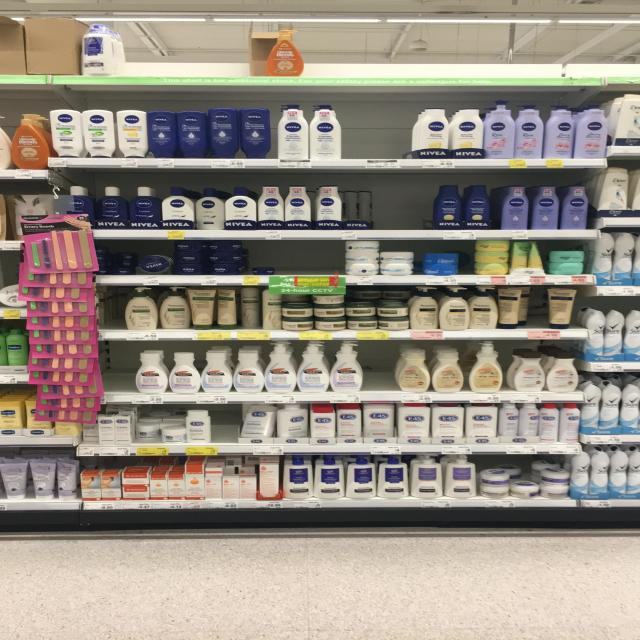void: (311, 14, 640, 78), (121, 15, 262, 76), (347, 87, 412, 159), (379, 172, 431, 230), (282, 240, 340, 276), (97, 342, 132, 394), (367, 341, 398, 392)
